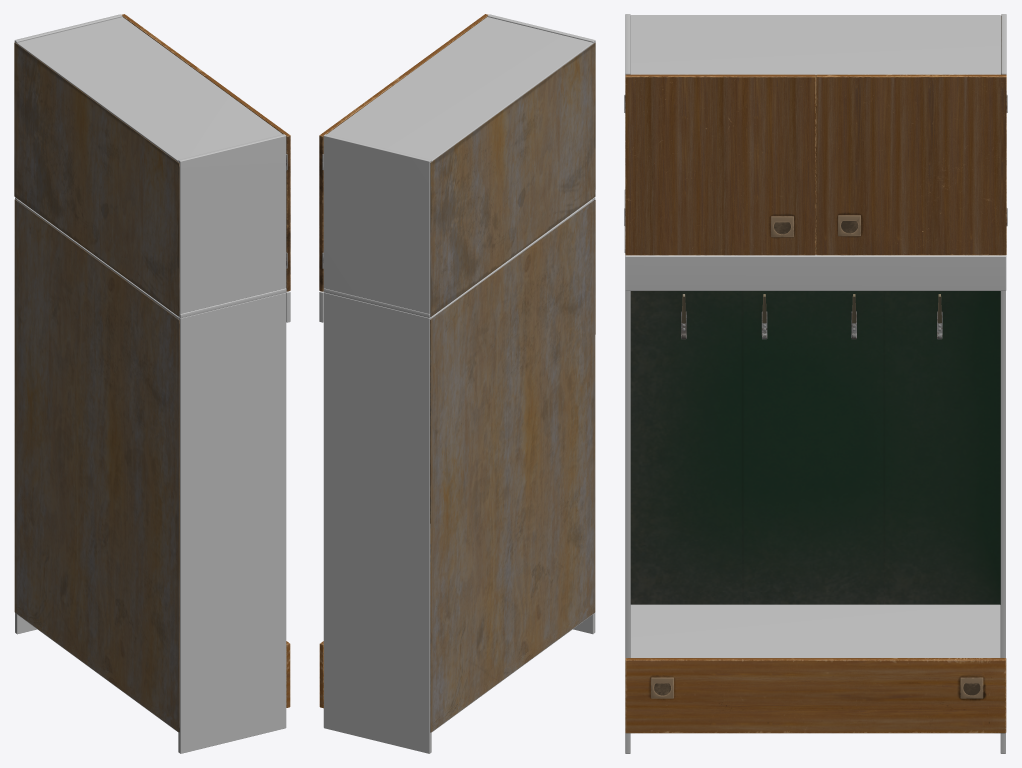
File: Closet02.fbx
The picture shows the model from 3 angles, left to right: view 1: azimuth 30°, elevation 25°; view 2: azimuth 150°, elevation 25°; view 3: azimuth 270°, elevation 25°; orthographic projection. The views are drawn at different scales.
Parts seen in each view (by area): view 1: BackBottom, BodyBottom, BodyUp, BackUp, LOD0; view 2: BackBottom, BodyBottom, BodyUp, BackUp, LOD0; view 3: BackBottom (×2), LOD0 (×3), BodyBottom, BodyUp, hanger.
Part boxes in pixels (left/top/right/bottom): BackBottom: left=14, top=200, right=179, bottom=731; BodyBottom: left=15, top=197, right=290, bottom=753; BodyUp: left=14, top=14, right=286, bottom=318; BackUp: left=14, top=43, right=179, bottom=316; LOD0: left=204, top=75, right=290, bottom=291; BackBottom: left=430, top=200, right=595, bottom=732; BodyBottom: left=319, top=197, right=595, bottom=753; BodyUp: left=323, top=14, right=595, bottom=318; BackUp: left=430, top=43, right=595, bottom=316; LOD0: left=319, top=75, right=405, bottom=291; BackBottom (×2): left=630, top=291, right=1000, bottom=604; LOD0 (×3): left=624, top=74, right=1007, bottom=733; BodyBottom: left=625, top=255, right=1006, bottom=753; BodyUp: left=624, top=14, right=1006, bottom=252; hanger: left=681, top=294, right=942, bottom=339.
Size of what is drawn, in the model's own units: 54.48 by 275 by 140.
